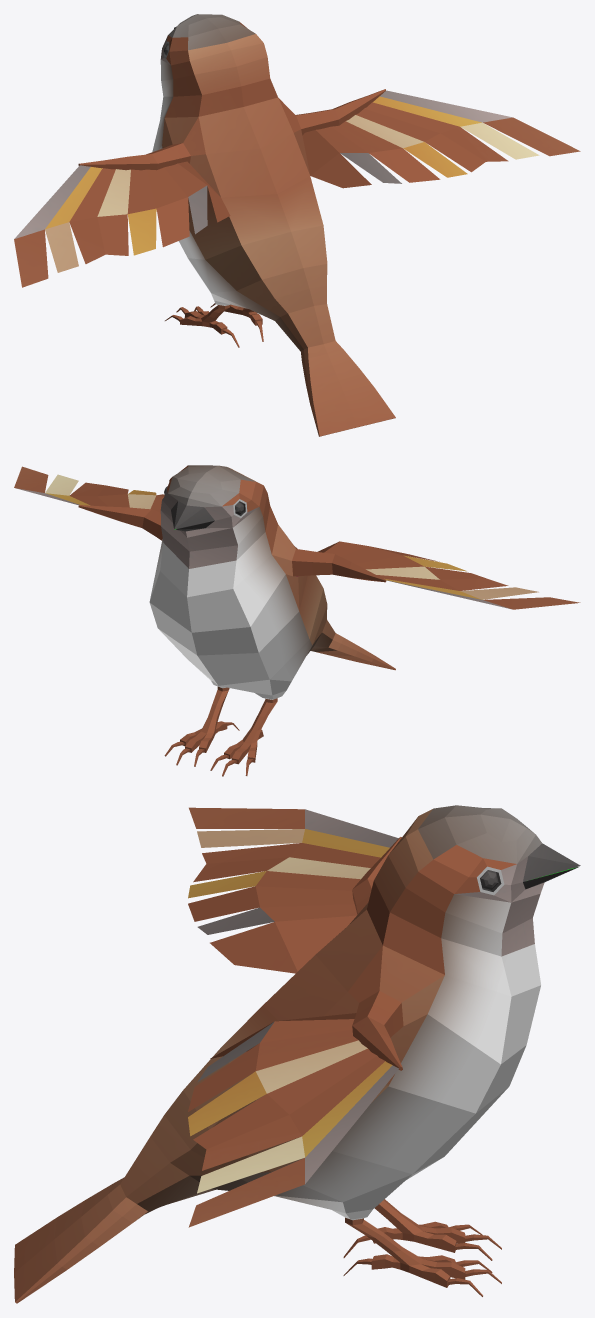
The model's file is SM_Bird.fbx.
The picture shows the model from 3 angles, top to bottom: view 1: azimuth 30°, elevation 25°; view 2: azimuth 150°, elevation 25°; view 3: azimuth 270°, elevation 25°; orthographic projection. The views are drawn at different scales.
Parts seen in each view (by area): view 1: SM_Bird_LOD0; view 2: SM_Bird_LOD0; view 3: SM_Bird_LOD0.
Part boxes in pixels (bbox=[...]): SM_Bird_LOD0: bbox=[14, 14, 580, 436]; SM_Bird_LOD0: bbox=[14, 465, 580, 776]; SM_Bird_LOD0: bbox=[14, 805, 580, 1303].
Size of the model in its own units: 804 by 412 by 459.
